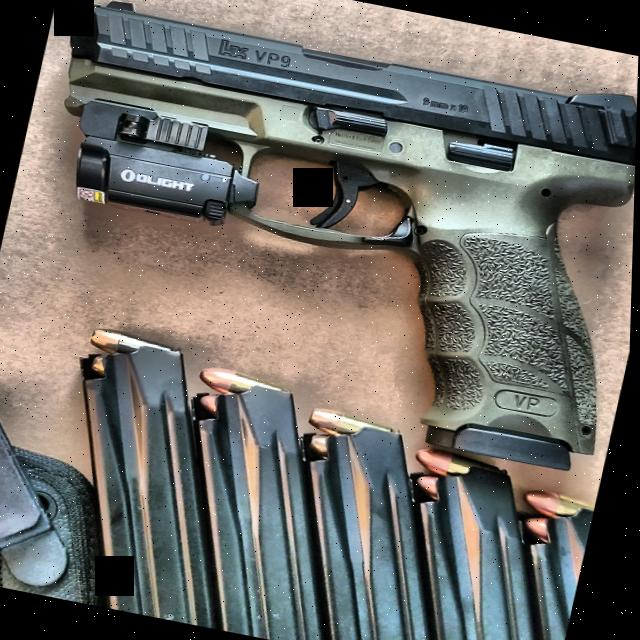HKVP9: (2, 0, 640, 464)
